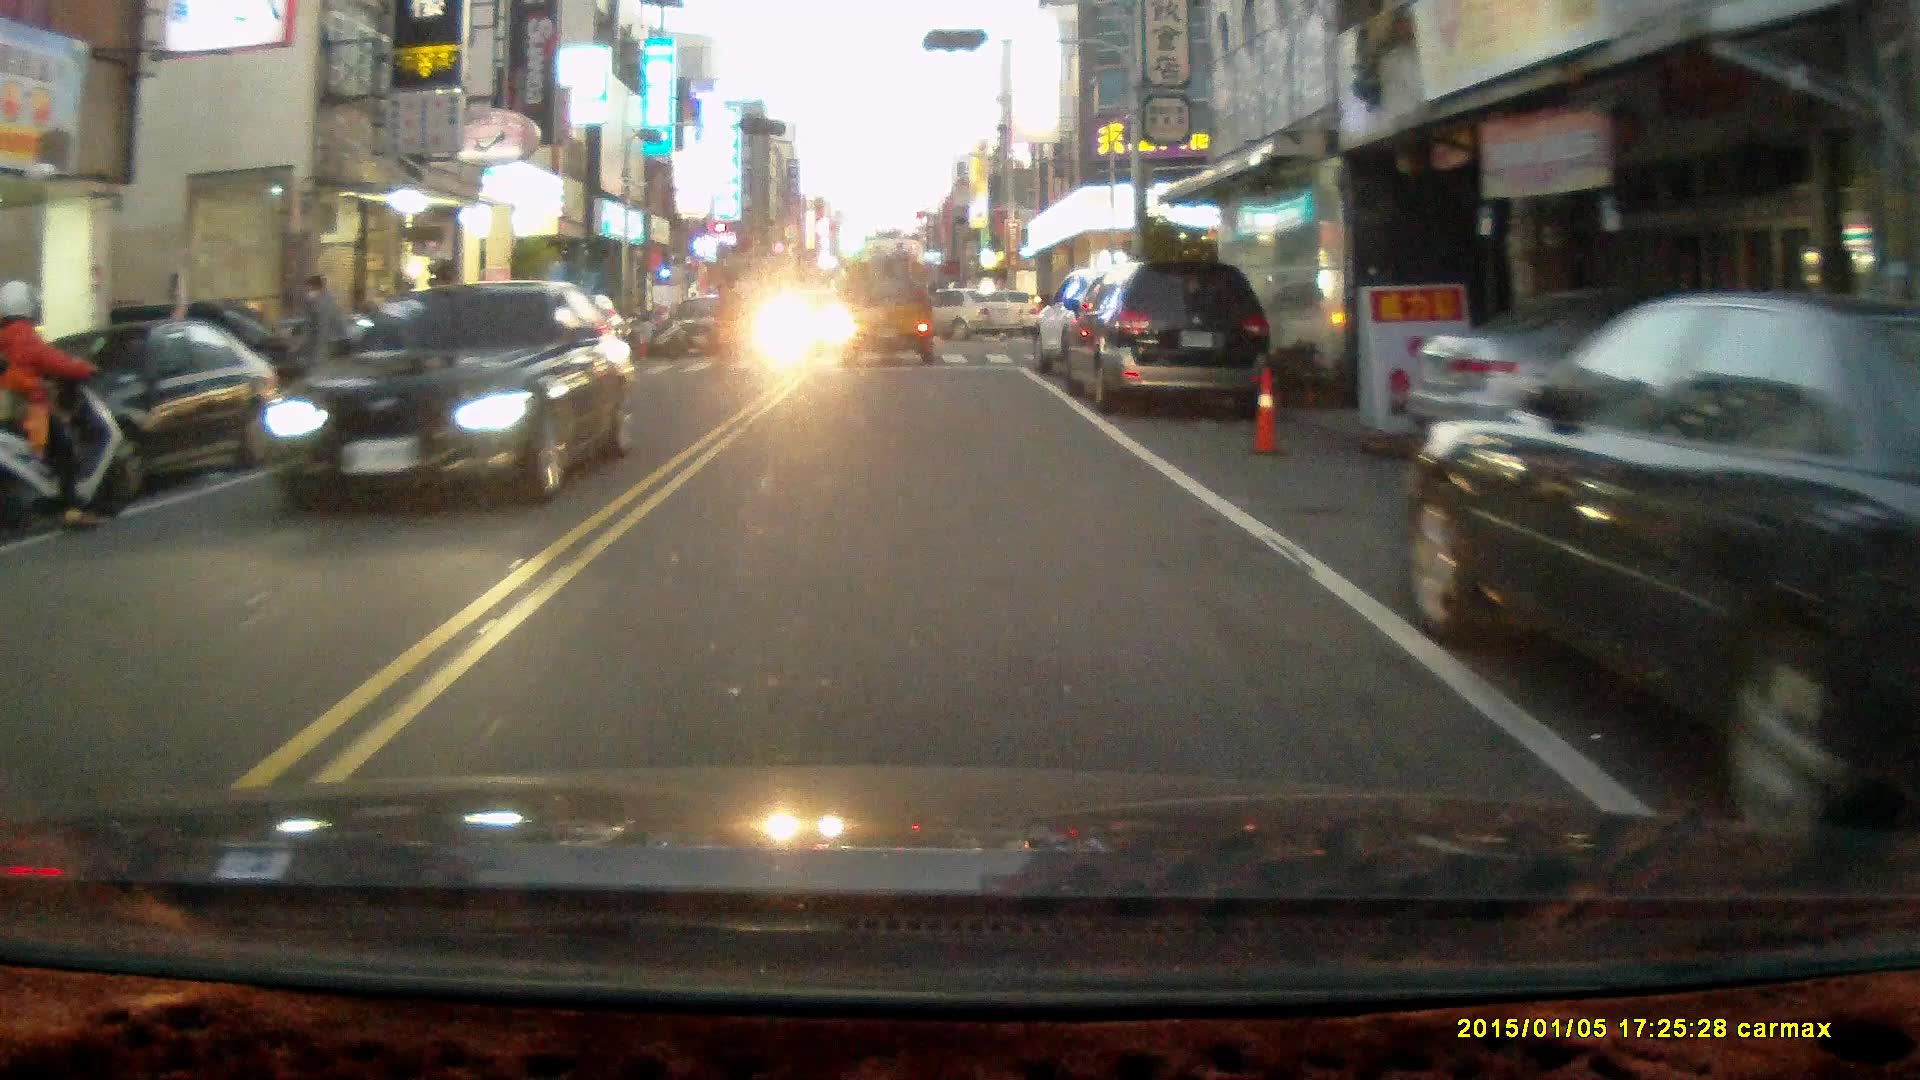pedestrian: (294, 268, 346, 418)
rider: (0, 272, 137, 538)
vehicle: (1409, 295, 1920, 819), (259, 277, 632, 522), (1399, 290, 1845, 492), (1057, 254, 1275, 416), (1031, 263, 1207, 390), (841, 257, 937, 364), (879, 285, 1022, 343), (666, 299, 750, 359)
